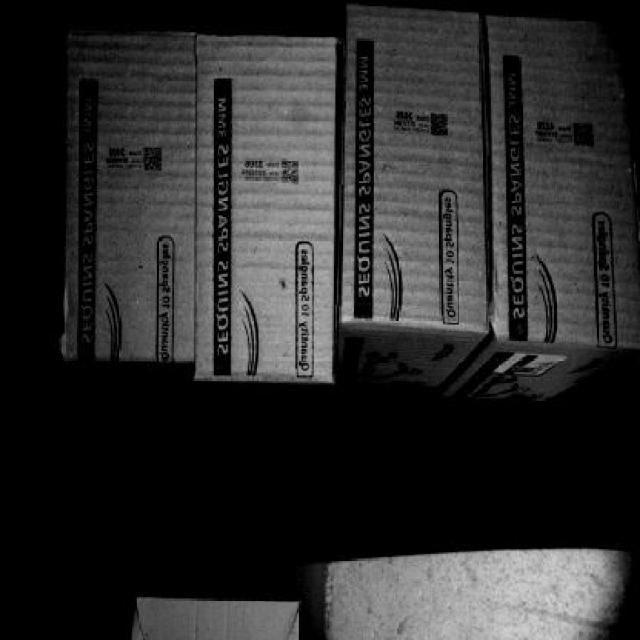cardboxes: (196, 34, 329, 383), (498, 20, 632, 346), (63, 34, 191, 360), (346, 15, 477, 328)
